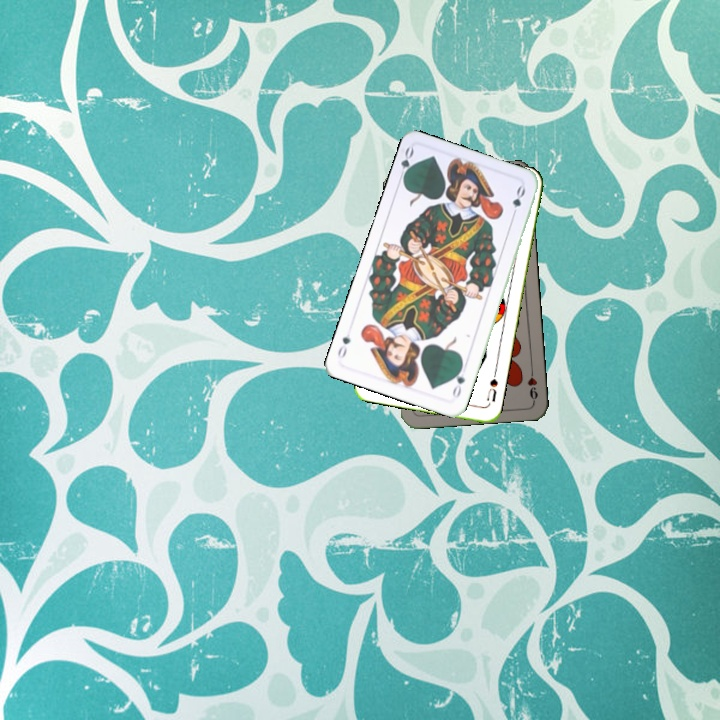GO: (394, 143, 417, 184), (448, 361, 468, 400)
H9: (523, 363, 540, 404)
SU: (483, 367, 500, 408)
